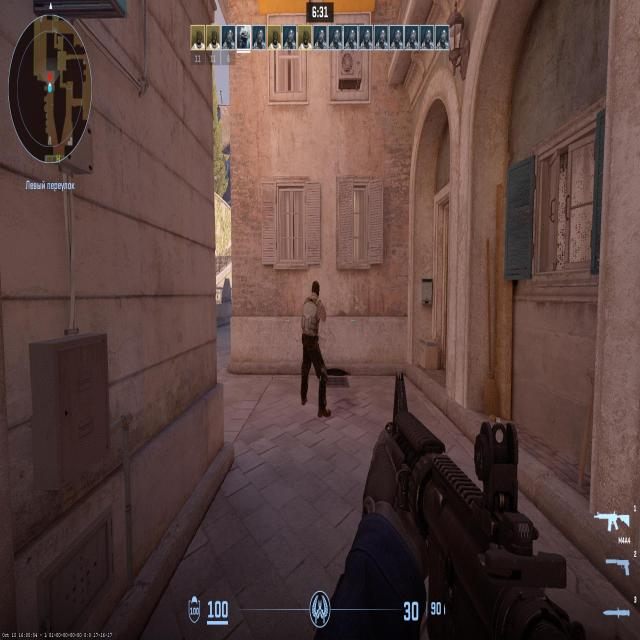T: (306, 282, 322, 399)
T_heat: (310, 284, 316, 308)
